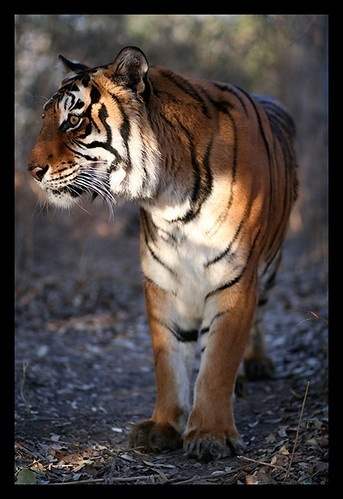tigre: (25, 45, 300, 462)
